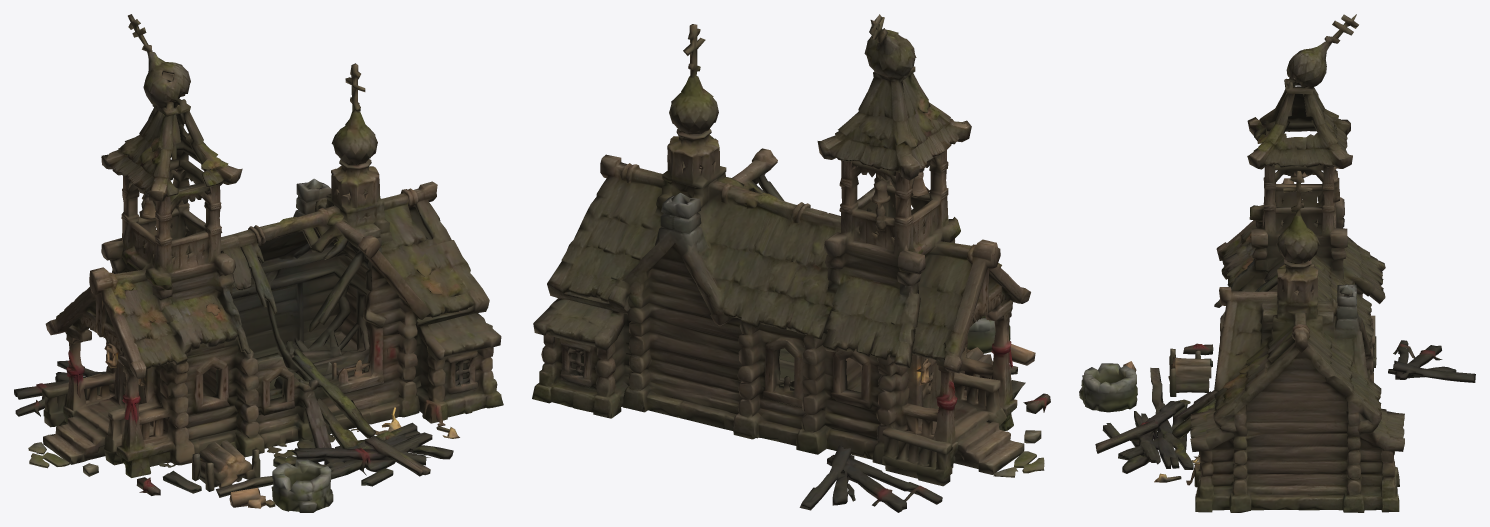
The model's file is wooden-church.glb.
3 views of the same model, side by side, from view 1: azimuth 30°, elevation 25°; view 2: azimuth 150°, elevation 25°; view 3: azimuth 270°, elevation 25° (orthographic). The views are drawn at different scales.
Visible parts, largest first — view 1: tripo_node_3eaecf96-aaa2-4916-ac7b-28d77bd9911f; view 2: tripo_node_3eaecf96-aaa2-4916-ac7b-28d77bd9911f; view 3: tripo_node_3eaecf96-aaa2-4916-ac7b-28d77bd9911f.
Part boxes in pixels (box(x1,y1,x2,y2)): tripo_node_3eaecf96-aaa2-4916-ac7b-28d77bd9911f: box(14, 14, 503, 512); tripo_node_3eaecf96-aaa2-4916-ac7b-28d77bd9911f: box(532, 14, 1050, 512); tripo_node_3eaecf96-aaa2-4916-ac7b-28d77bd9911f: box(1079, 14, 1475, 512).
Bounding box in the file's own units: 1 × 0.9292 × 0.8906.
1 material, 1 textured.
